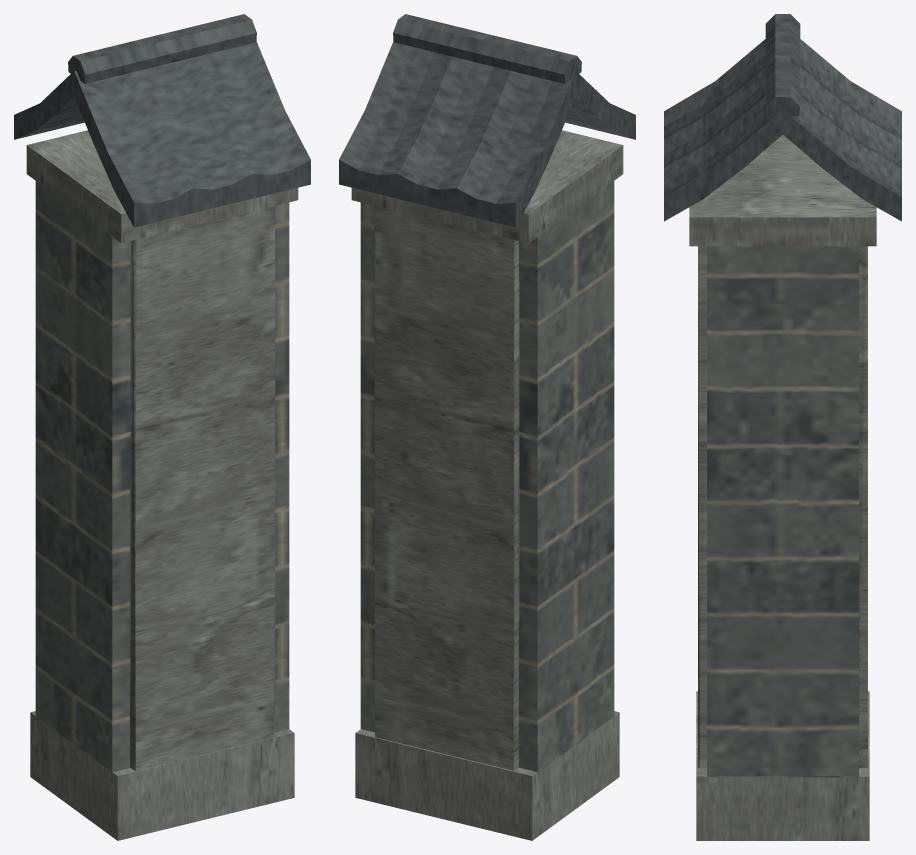
The model's file is WallEnd_LOD1.fbx.
3 renders of one model, left to right at view 1: azimuth 30°, elevation 25°; view 2: azimuth 150°, elevation 25°; view 3: azimuth 270°, elevation 25°, orthographic.
Parts seen in each view (by area): view 1: WallEnd.001; view 2: WallEnd.001; view 3: WallEnd.001.
Boxes of the visible parts, box(x1,y1,x2,y2) form: WallEnd.001: box(14, 14, 310, 840); WallEnd.001: box(339, 14, 635, 840); WallEnd.001: box(664, 14, 901, 840).
Bounding box in the file's own units: 0.4 × 1.62 × 0.47.
1 material, 1 textured.
